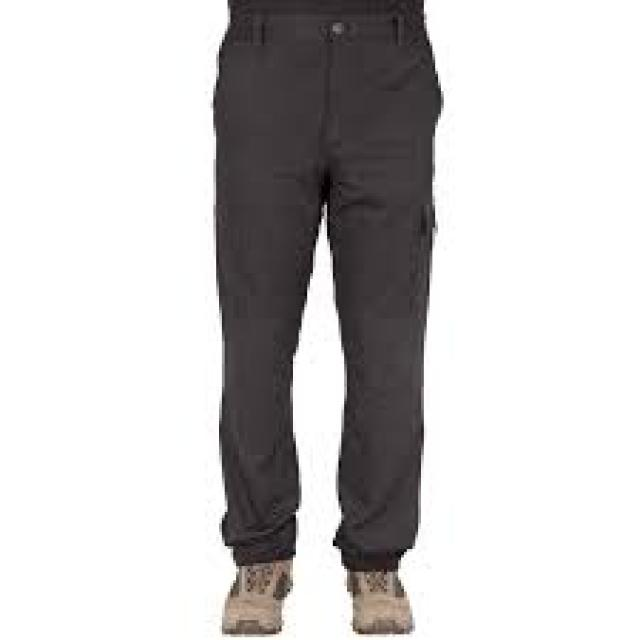pants: (202, 2, 447, 568)
